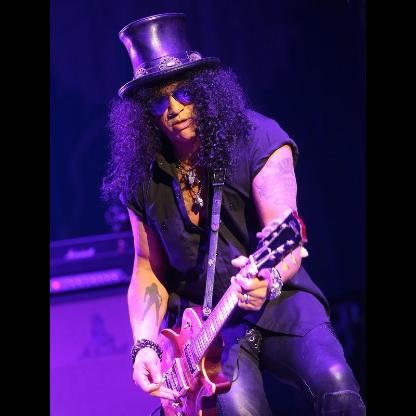guitar: (153, 208, 307, 416)
